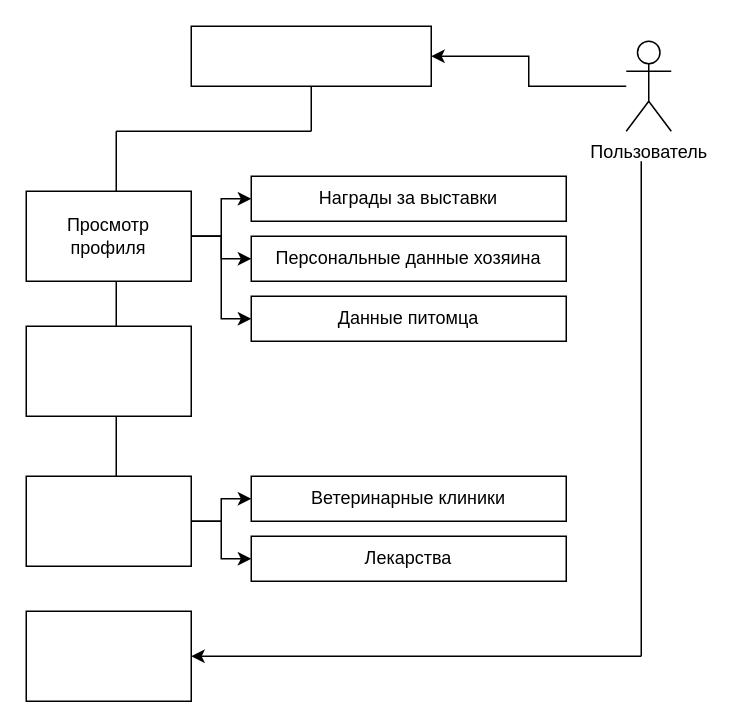
Image size: 734x728. Some labels were removed from this diagram. The shapes that lost their labels are listed below. From the top down, each one's box as (x1, y1, x2, y2) in pixels, then its label:
(190, 25, 431, 86): Авторизация
(25, 325, 191, 416): Просмотр календаря
(25, 475, 191, 566): Просмотр истории
(25, 610, 191, 701): Техподдержка
